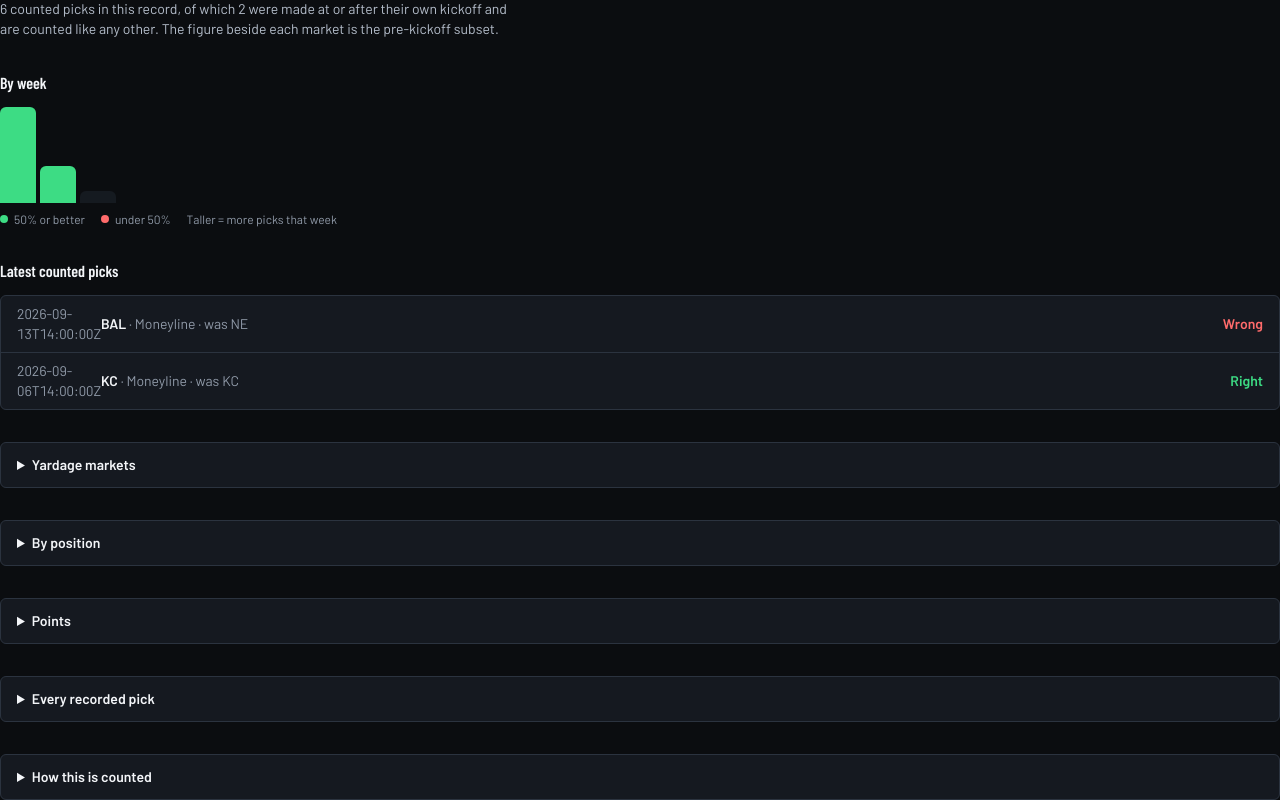
Test case: per-pick detail › shows team names and Right/Wrong, never raw game ids or hit/miss
(page scrolled)
Click the heading "Every recorded pick" at x=93, y=698, box [32,690,155,707]
(page scrolled)
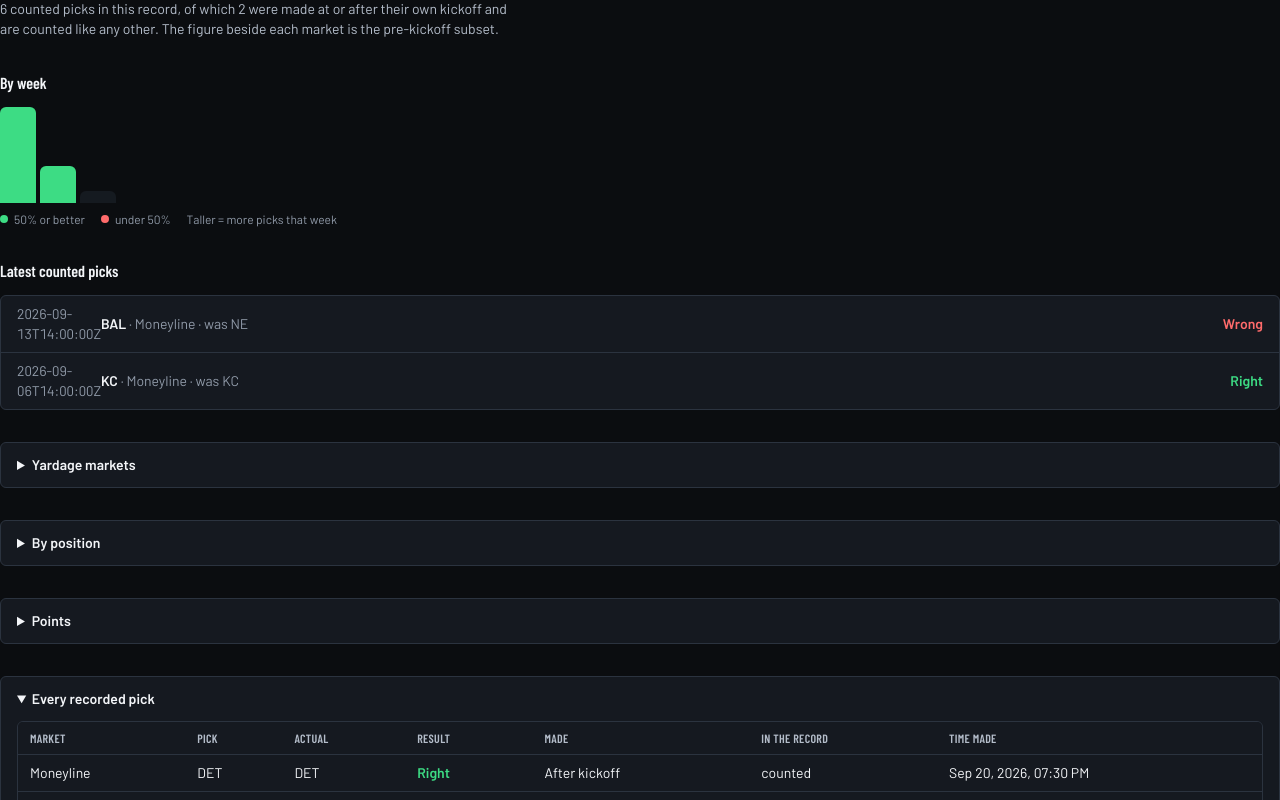
Now the 2nd row is shown, box [18,755,1262,792]
Now the 2nd row shows "DET", box [197,764,222,781]
Now the 2nd row shows "Right", box [417,764,450,781]
